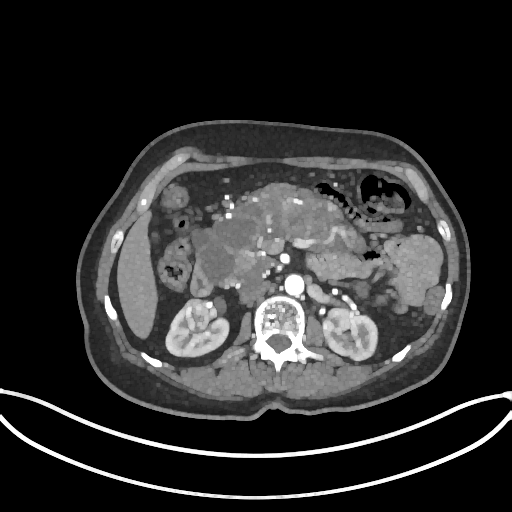Lesion: (319, 317, 339, 335)
